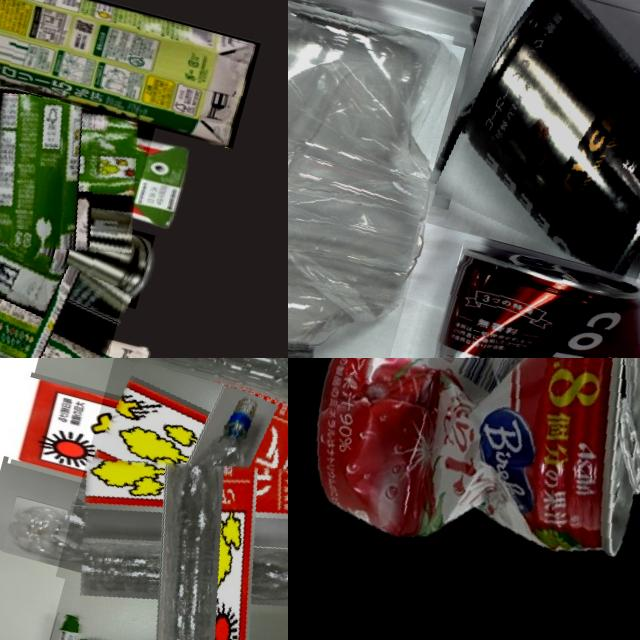Aluminium Foil: (55, 358, 288, 640), (0, 19, 169, 280), (0, 0, 260, 147), (0, 206, 132, 358)
Can: (288, 358, 640, 601), (426, 0, 640, 288), (406, 238, 640, 358), (0, 162, 155, 308)
Transparent Plastic Bottle: (288, 0, 473, 358), (44, 426, 288, 640), (60, 358, 288, 443)
